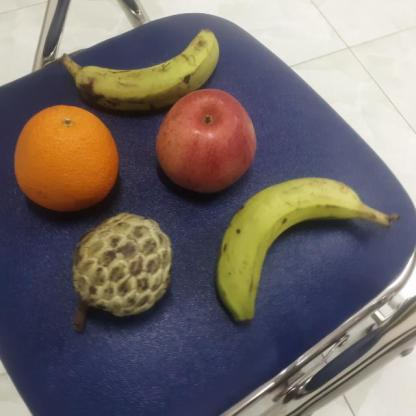annona: (68, 209, 178, 320)
apple: (153, 88, 259, 193)
banana: (211, 176, 372, 324), (72, 24, 222, 111)
orange: (11, 103, 120, 213)
